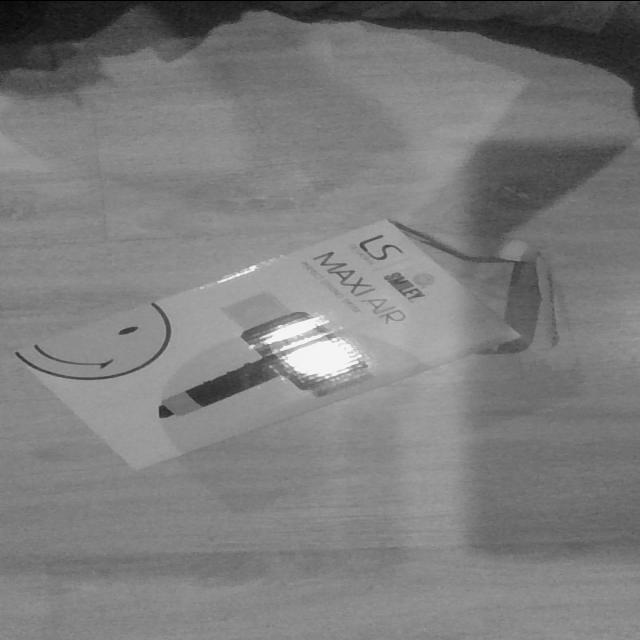Dryer: (12, 217, 546, 470)
